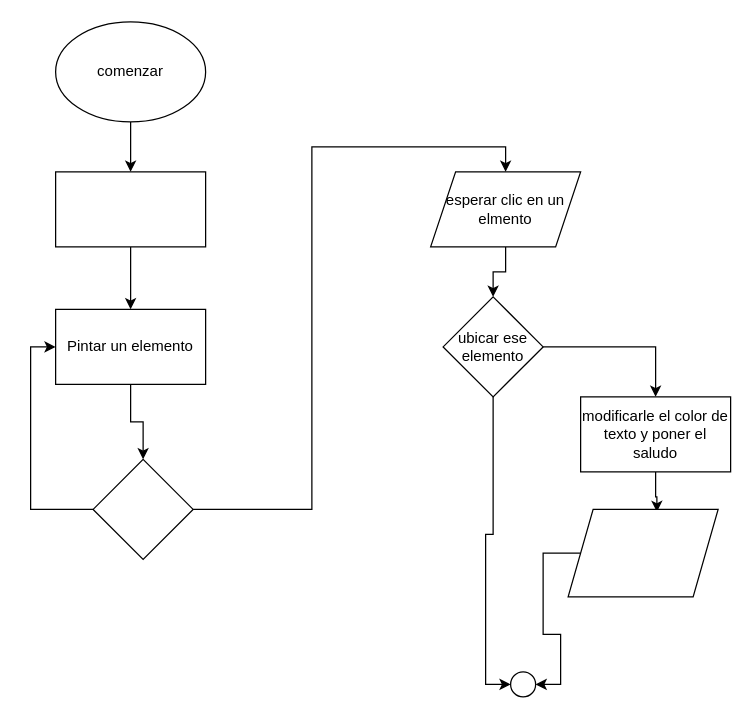
The diagram is 753 pixels wide and 719 high, and some of its shapes have lost their labels. Here are the shapes that lost their labels. From the top down, the centre of each, then its label:
At point (130, 209): "definir un array de colores".
At point (142, 508): "hay más".
At point (642, 552): "nos quedamos con su color de fondo para el proximo texto".
